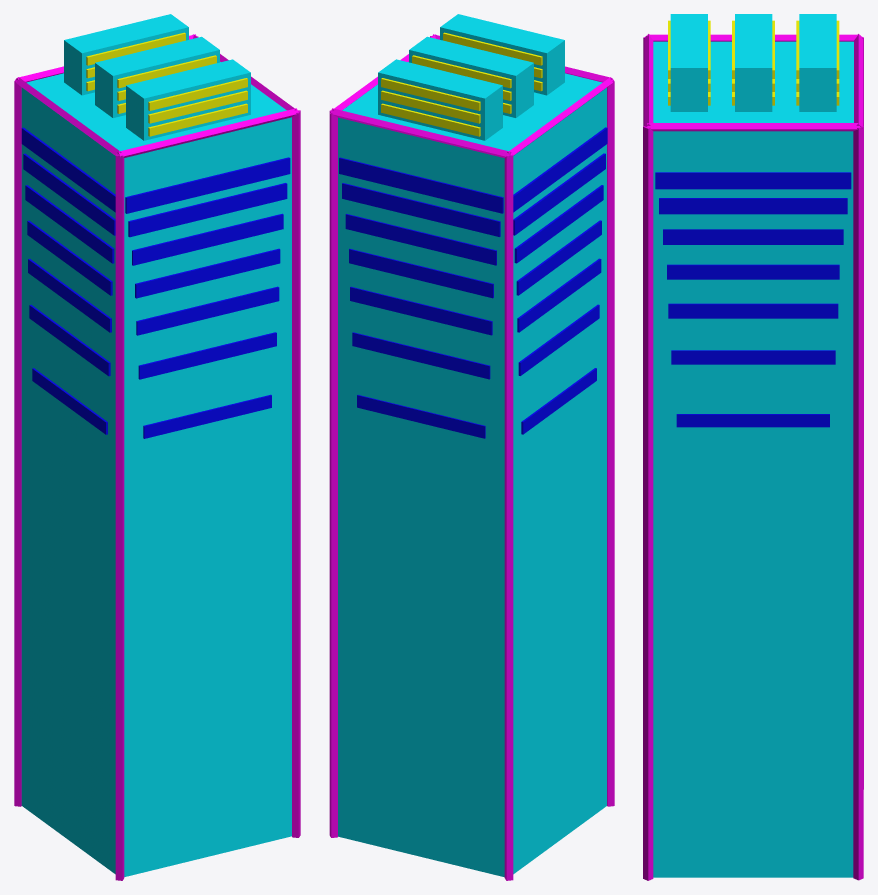
The model's file is SM_Building05.FBX.
The picture shows the model from 3 angles, left to right: view 1: azimuth 30°, elevation 25°; view 2: azimuth 150°, elevation 25°; view 3: azimuth 270°, elevation 25°; orthographic projection. The views are drawn at different scales.
Parts seen in each view (by area): view 1: Object013; view 2: Object013; view 3: Object013.
Boxes of the visible parts, x1,y1,x2,y2 form: Object013: [14, 14, 300, 880]; Object013: [329, 14, 614, 880]; Object013: [643, 14, 863, 880].
Size of the model in its own units: 41.26 by 163 by 41.15.
